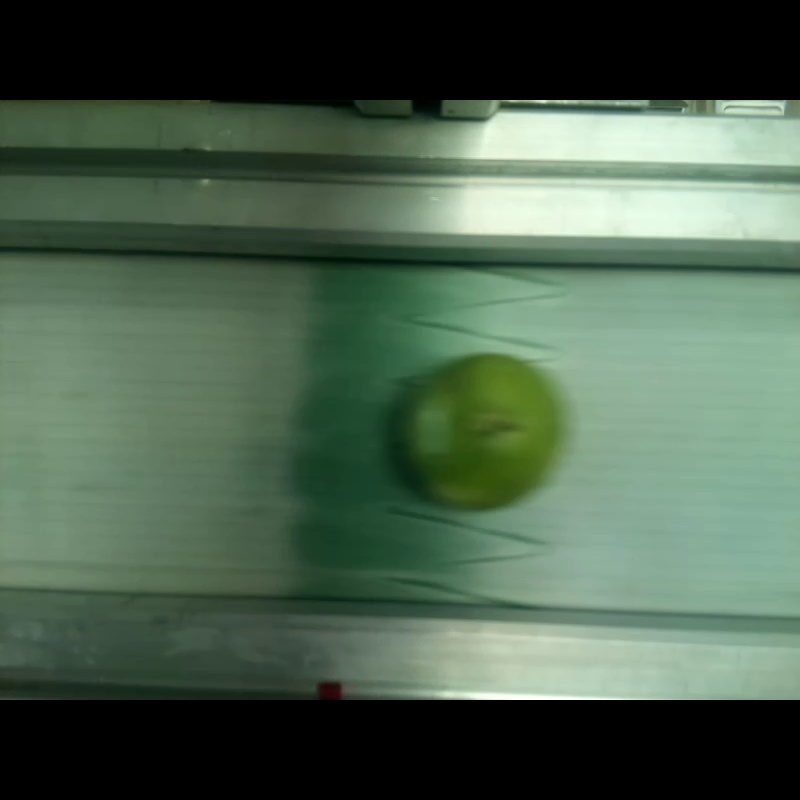lime: (407, 354, 556, 505)
